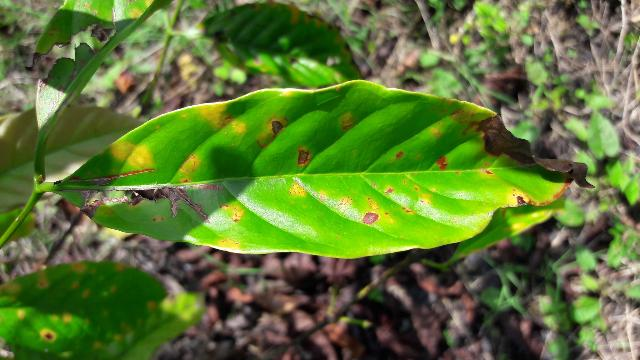red_spider_mite: (58, 84, 594, 259)
